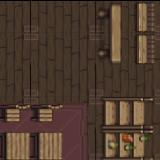Obstacle: (96, 0, 128, 66), (96, 96, 159, 128), (95, 129, 159, 160), (31, 96, 63, 131), (127, 0, 160, 33), (128, 33, 160, 66), (31, 130, 63, 160), (0, 130, 31, 160), (1, 98, 30, 130)
